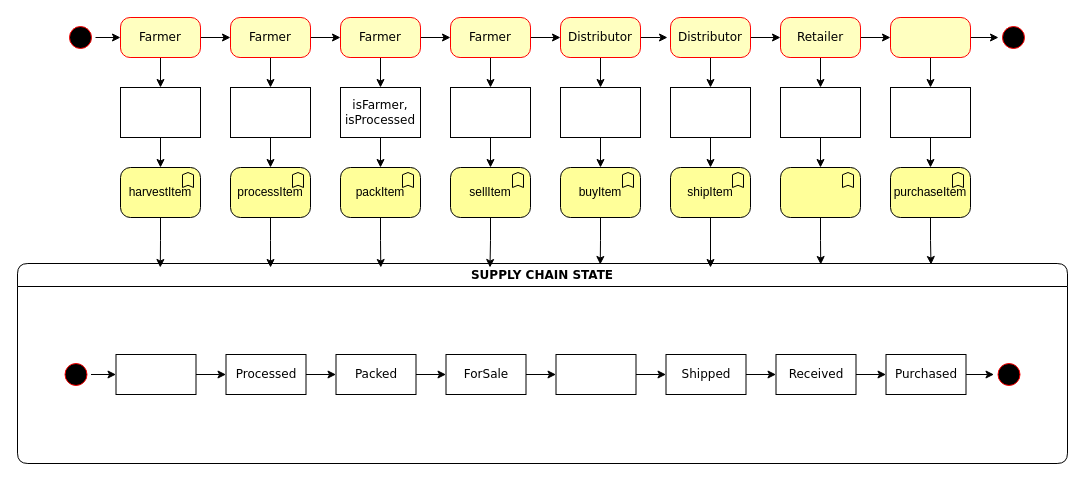
Image size: 1085x481. Some labels were removed from this diagram. The shapes that lost their labels are listed below. From the top down, each one's centre as x and y in pixels, then its label:
At point (930, 37): "Consumer".
At point (160, 112): "isFarmer".
At point (270, 112): "isFarmer, isHarvested".
At point (490, 112): "isFarmer, isPacked".
At point (600, 112): "isDistributer, isForSale".
At point (710, 112): "isDistributer, isSold".
At point (820, 112): "isRetailer, isShipped".
At point (930, 112): "isDistributer, isReceived".
At point (820, 192): "receiveItem".
At point (155, 374): "Harvested".
At point (595, 374): "Sold".
